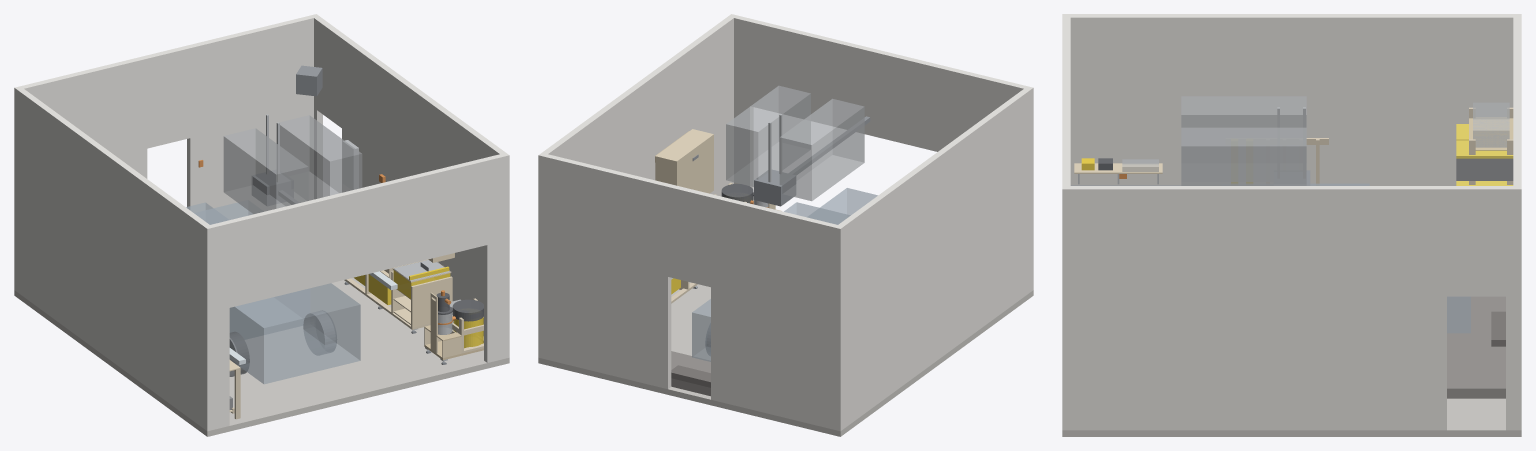
The model's file is garage-shop-maverick.glb.
The picture shows the model from 3 angles, left to right: view 1: azimuth 30°, elevation 25°; view 2: azimuth 150°, elevation 25°; view 3: azimuth 270°, elevation 25°; orthographic projection. The views are drawn at different scales.
Visible parts, largest first — view 1: Wall West/west wall, Wall North/north wall, Wall South/door header, Slab/slab, Wall East/east wall, Truck/bed, Bike Hoists/bike 1, Wall South/south return west, Bike Hoists/bike 2, Wall South/south return east, Truck/cab, Flip Bench/end panel S (+7 smaller); view 2: Wall North/north wall, Wall West/west wall, Wall South/door header, Wall East/east wall, Bike Hoists/bike 1, Bike Hoists/bike 2, Slab/slab, Wall South/south return east, Truck/bed, Garage Opener/motor, Truck/hood, Wall South/south return west (+8 smaller); view 3: Wall East/east wall, Wall West/west wall, Bike Hoists/bike 1, Bike Hoists/bike 2, Landing/landing, Slab/slab, Wall North/north wall, Wall South/south return east, Bulk Rack/light bins, Bulk Rack/shelf 4, Wall South/door header, Bulk Rack/tote 3-2 (+6 smaller).
Boxes of the visible parts, left/top/right/bottom form: Wall West/west wall: left=18, top=89, right=209, bottom=428; Wall North/north wall: left=14, top=14, right=319, bottom=292; Wall South/door header: left=226, top=158, right=487, bottom=307; Slab/slab: left=14, top=277, right=509, bottom=436; Wall East/east wall: left=314, top=16, right=505, bottom=335; Truck/bed: left=229, top=283, right=360, bottom=384; Bike Hoists/bike 1: left=223, top=128, right=308, bottom=214; Wall South/south return west: left=204, top=221, right=229, bottom=431; Bike Hoists/bike 2: left=279, top=115, right=362, bottom=200; Wall South/south return east: left=484, top=153, right=509, bottom=362; Truck/cab: left=194, top=200, right=309, bottom=339; Flip Bench/end panel S: left=411, top=276, right=452, bottom=327; Wall North/north wall: left=538, top=153, right=843, bottom=431; Wall West/west wall: left=838, top=89, right=1029, bottom=428; Wall South/door header: left=750, top=19, right=1010, bottom=151; Wall East/east wall: left=542, top=16, right=733, bottom=196; Bike Hoists/bike 1: left=779, top=98, right=864, bottom=201; Bike Hoists/bike 2: left=726, top=85, right=810, bottom=186; Slab/slab: left=538, top=282, right=1033, bottom=436; Wall South/south return east: left=728, top=14, right=753, bottom=198; Truck/bed: left=808, top=188, right=877, bottom=224; Garage Opener/motor: left=754, top=169, right=796, bottom=206; Truck/hood: left=692, top=299, right=710, bottom=361; Wall South/south return west: left=1008, top=82, right=1033, bottom=292; Wall East/east wall: left=1070, top=186, right=1513, bottom=430; Wall West/west wall: left=1070, top=14, right=1513, bottom=185; Bike Hoists/bike 1: left=1181, top=96, right=1306, bottom=181; Bike Hoists/bike 2: left=1181, top=127, right=1306, bottom=185; Landing/landing: left=1447, top=296, right=1505, bottom=398; Slab/slab: left=1062, top=398, right=1521, bottom=436; Wall North/north wall: left=1513, top=14, right=1521, bottom=430; Wall South/south return east: left=1062, top=176, right=1070, bottom=430; Bulk Rack/light bins: left=1473, top=102, right=1509, bottom=147; Bulk Rack/shelf 4: left=1469, top=117, right=1513, bottom=150; Wall South/door header: left=1062, top=27, right=1070, bottom=176; Bulk Rack/tote 3-2: left=1456, top=158, right=1513, bottom=180.
Size of the model in its own units: 225 by 148 by 249.
